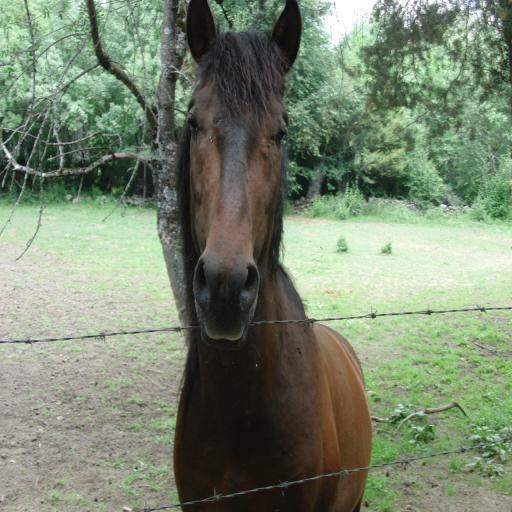horse: (171, 0, 373, 512)
